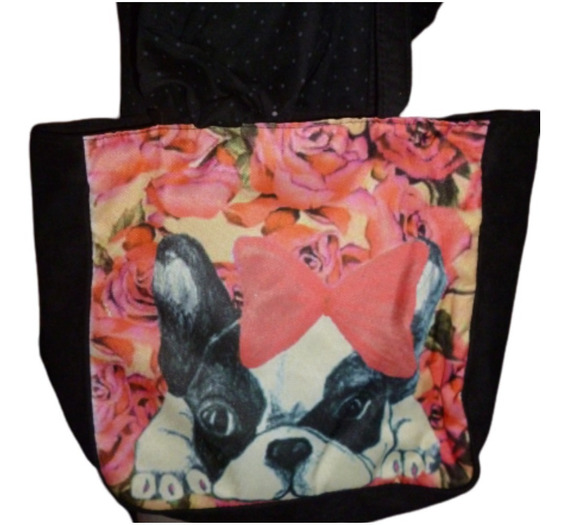cartera: (28, 106, 541, 521)
